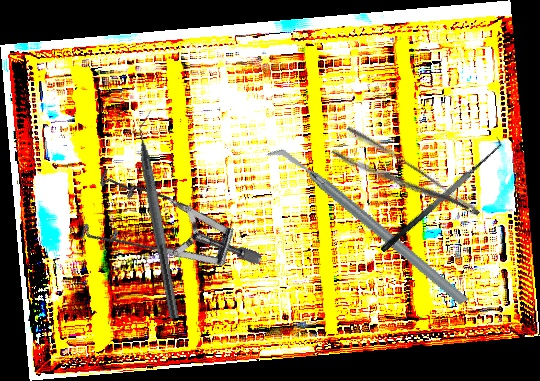Chopper: (263, 101, 472, 353), (129, 109, 194, 320)
Dressing Forceps: (330, 123, 483, 239)
Spatula Surgical: (371, 133, 508, 254)
Speculum: (57, 127, 265, 342)
